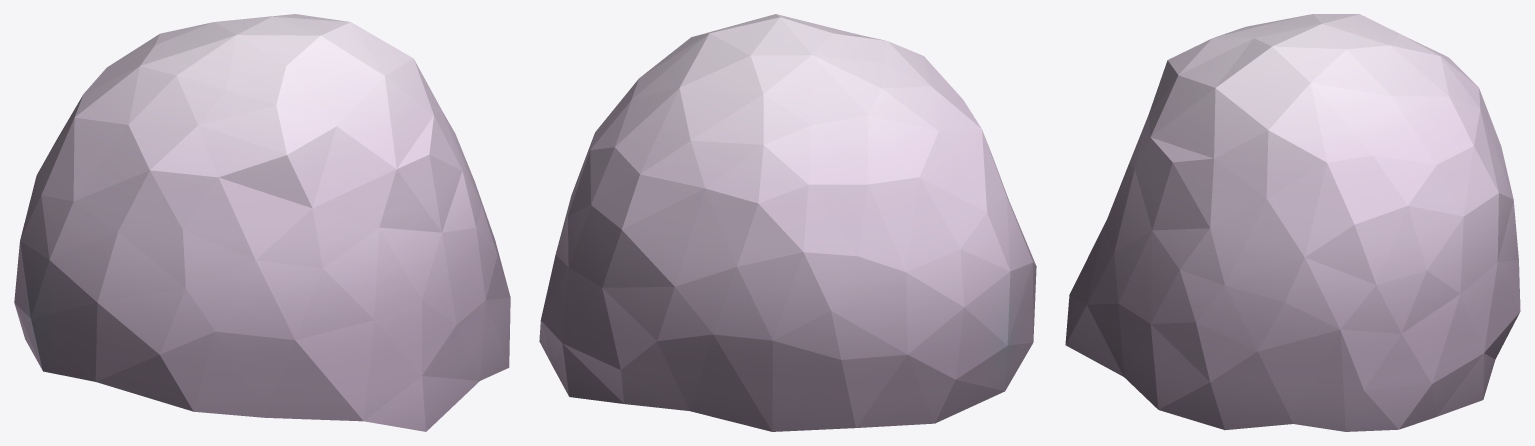
File: Top_03_01.fbx
The picture shows the model from 3 angles, left to right: view 1: azimuth 30°, elevation 25°; view 2: azimuth 150°, elevation 25°; view 3: azimuth 270°, elevation 25°; orthographic projection. The views are drawn at different scales.
Visible parts, largest first — view 1: Top_03; view 2: Top_03; view 3: Top_03.
Boxes of the visible parts, <box> form: Top_03: <box>14,14,510,431</box>; Top_03: <box>539,14,1036,431</box>; Top_03: <box>1065,14,1520,431</box>.
Bounding box in the file's own units: 2.46 × 1.73 × 2.31.
